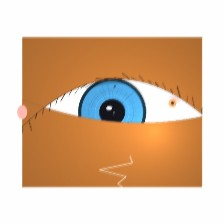foreign_body_visible: (164, 96, 181, 110)
